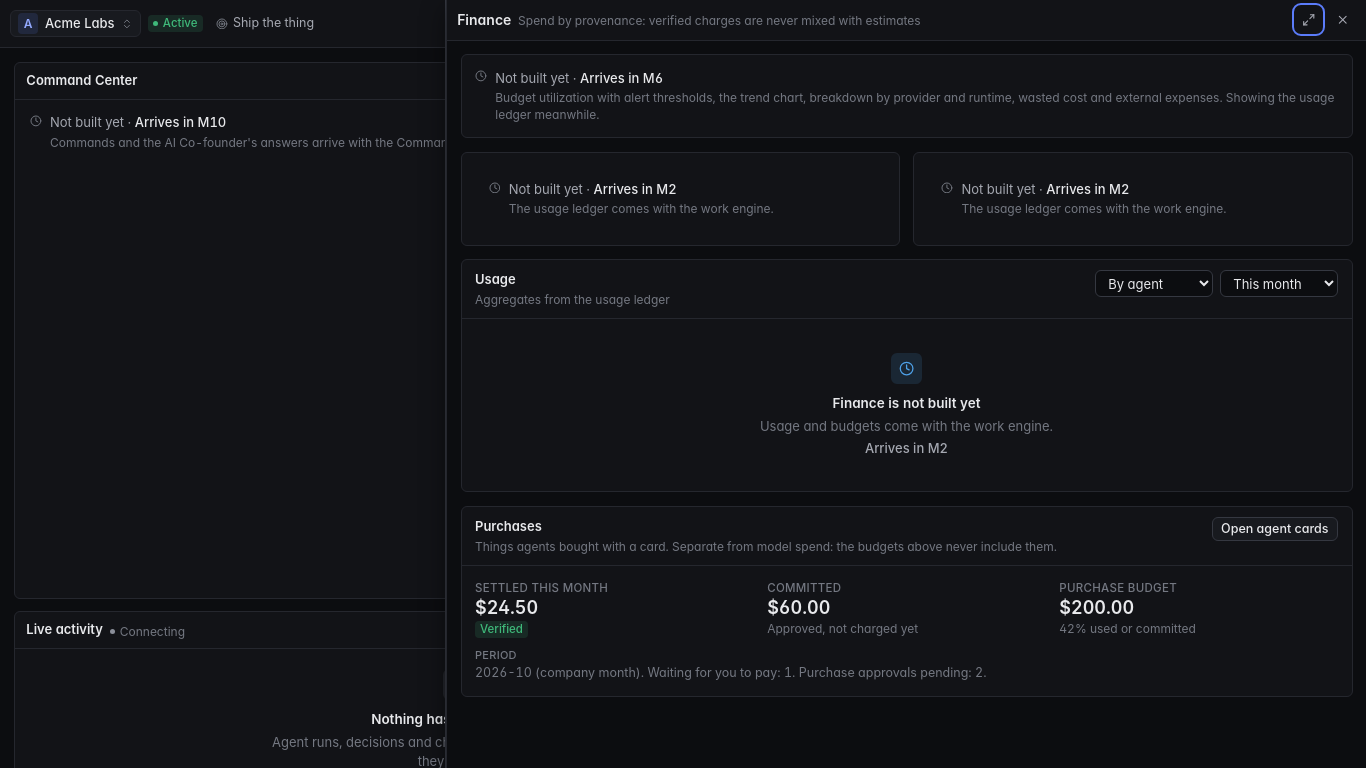
it: Purchases card in Finance › shows settled (verified) apart from committed, and the budget
The width and height of the screenshot is (1366, 768).
expect the text "Settled this month" is shown: met, box [475, 581, 608, 595]
expect the text "$24.50" is shown: met, box [475, 597, 538, 618]
Click the button "Open agent cards" at (1275, 529), box [1212, 517, 1338, 541]
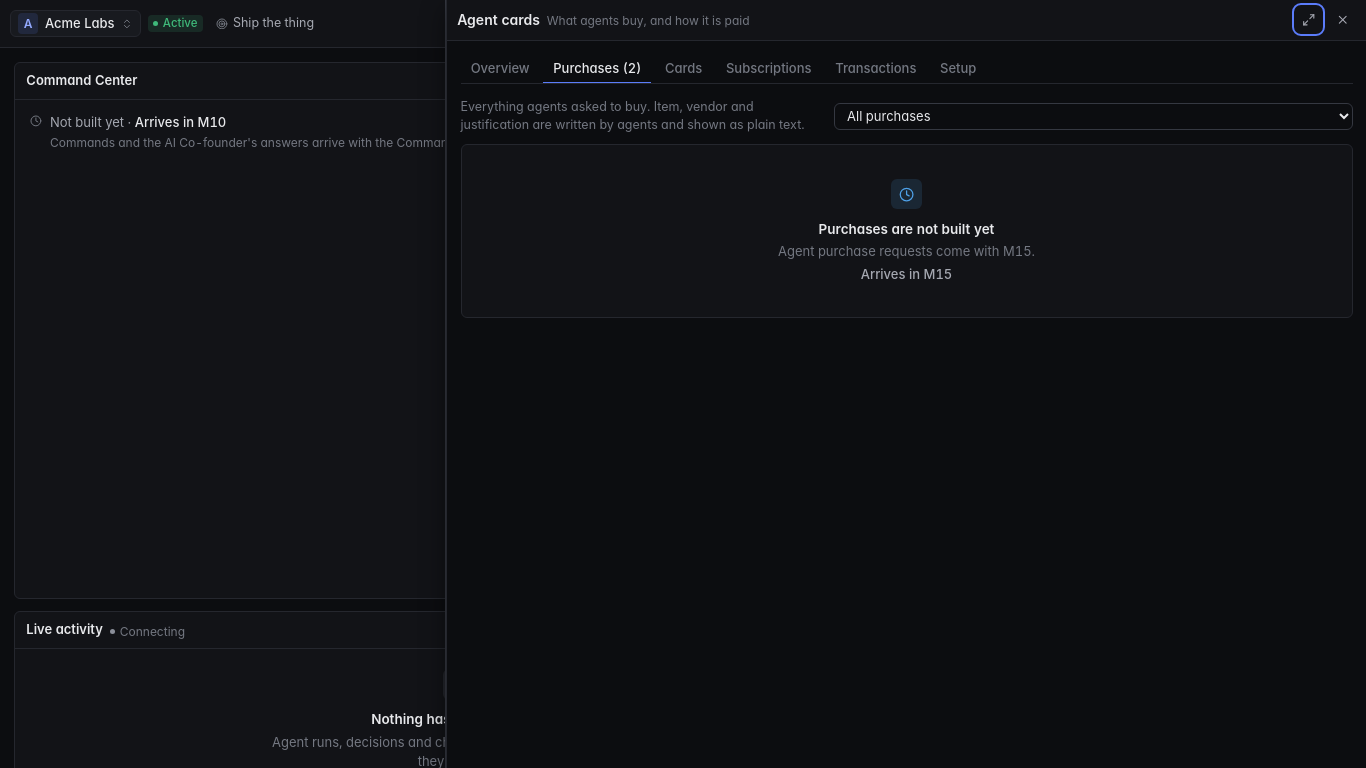
expect the dialog "Agent cards" is shown: met
